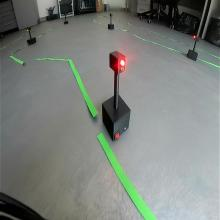red: (108, 50, 126, 74)
